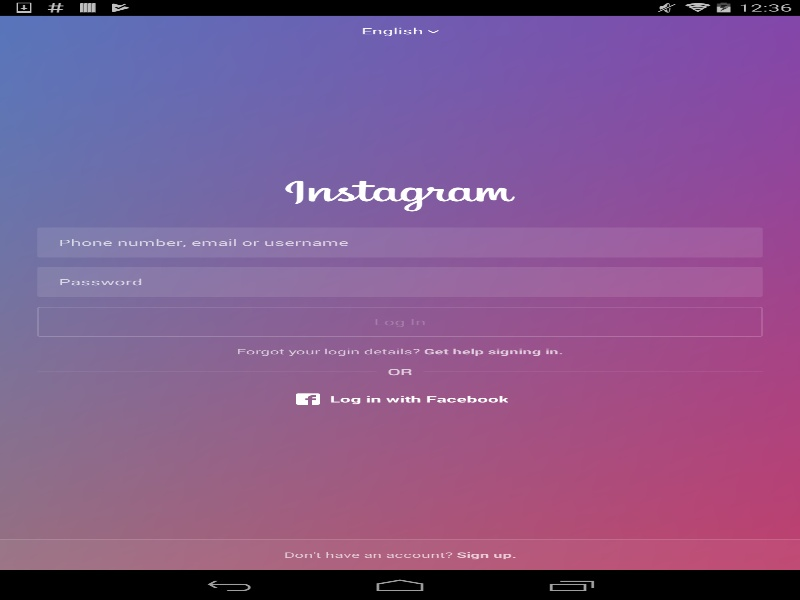Input: (37, 227, 762, 257), (37, 266, 762, 296)
